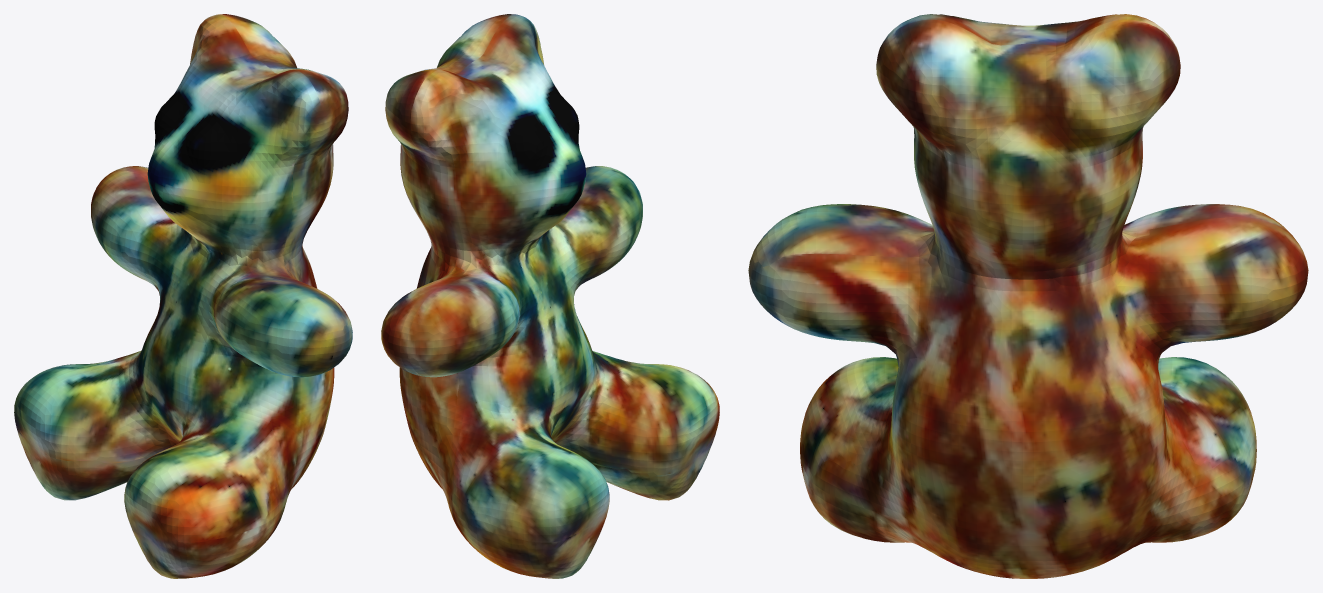
File: teddy_new.glb
3 renders of one model, left to right at view 1: azimuth 30°, elevation 25°; view 2: azimuth 150°, elevation 25°; view 3: azimuth 270°, elevation 25°, orthographic. The views are drawn at different scales.
Visible parts, largest first — view 1: Sphere_Sphere.001; view 2: Sphere_Sphere.001; view 3: Sphere_Sphere.001.
Part boxes in pixels (x1,y1,x2,y2): Sphere_Sphere.001: (14,14,352,578); Sphere_Sphere.001: (381,14,719,578); Sphere_Sphere.001: (748,14,1308,578).
Size of the model in its own units: 3.12 by 5.66 by 4.87.
1 material, 1 textured.
